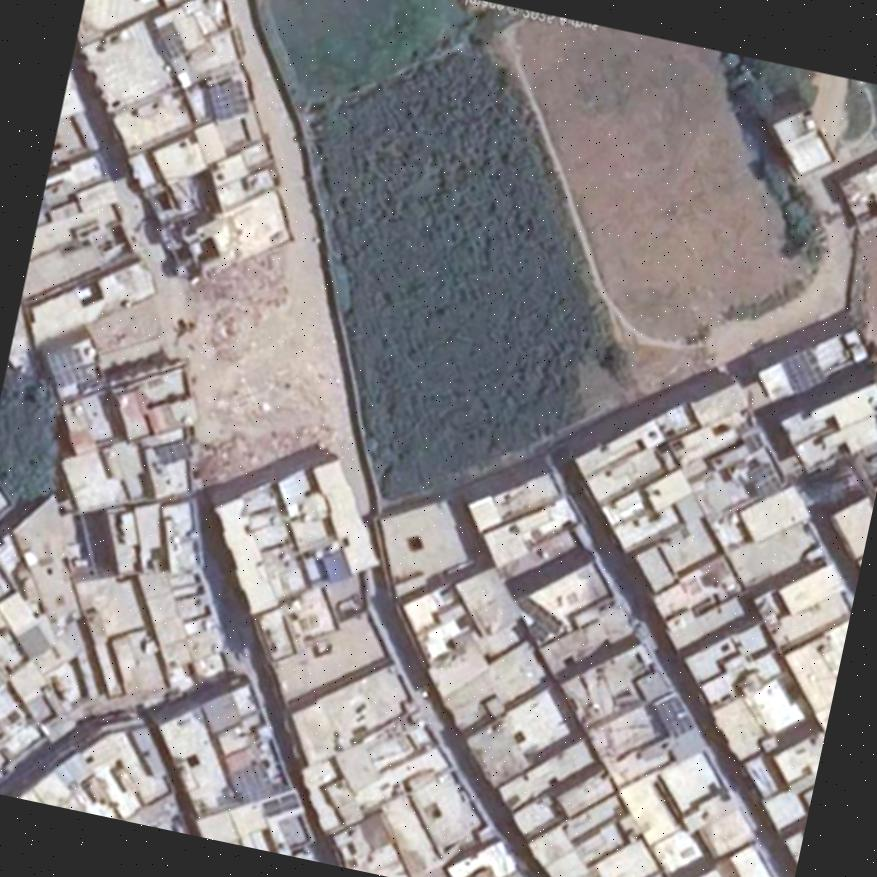Solarpanel: (781, 350, 823, 395), (43, 347, 89, 386), (208, 79, 246, 121), (228, 764, 273, 799), (654, 699, 692, 736), (154, 439, 193, 462)
